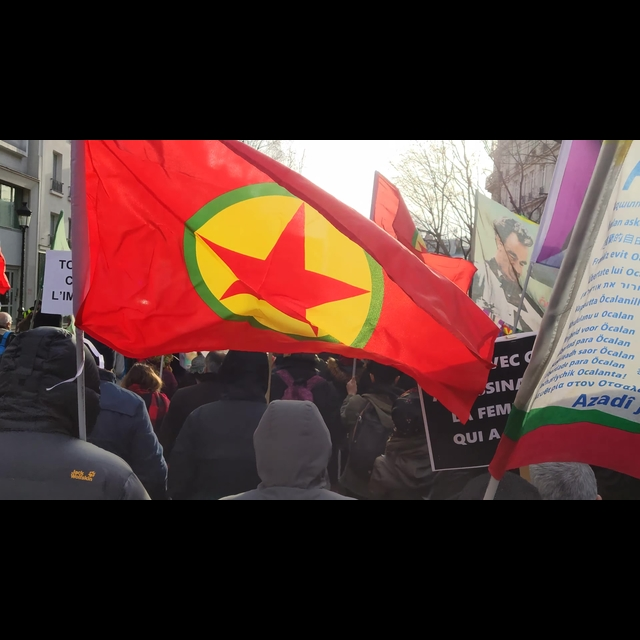PKK: (159, 166, 402, 352)
